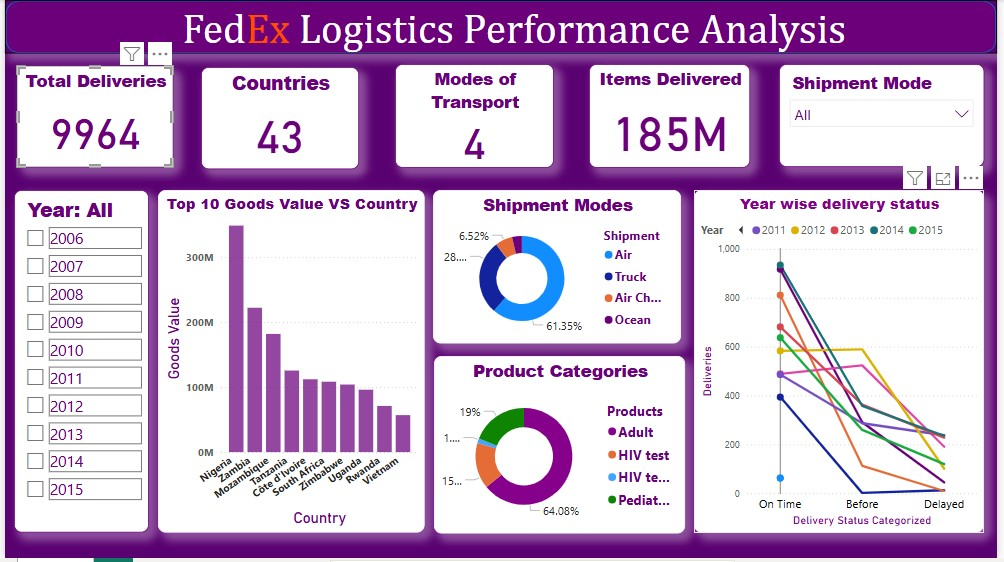

This screenshot's page, from the dashboard's own definition file:
{"tool":"powerbi","page":{"name":"Page 1","canvas":[1280,720],"ordinal":0},"visuals":[{"type":"shape","box":[0,0,1279.8,69.4],"z":0},{"type":"textbox","box":[216.9,0,880.2,76.5],"z":1000},{"type":"card","title":"Total Deliveries","fields":{"Values":["CountNonNull(SCMS_Delivery_History_Dataset.ID)"]},"box":[15.6,84.7,201.6,131],"z":2000},{"type":"card","title":"Countries","fields":{"Values":["Sum(Table (2).TotalCountries)"]},"box":[252.8,86.4,204.1,131.8],"z":3000},{"type":"card","title":"Modes of Transport","fields":{"Values":["Min(SCMS_Delivery_History_Dataset.Mode)"]},"box":[502.7,83,204.9,134.4],"z":4000},{"type":"slicer","fields":{"Values":["SCMS_Delivery_History_Dataset.Shipment Mode"]},"box":[998.3,83,265.4,132.7],"z":5000},{"type":"card","title":"Items Delivered","fields":{"Values":["Sum(SCMS_Delivery_History_Dataset.Line Item Quantity)"]},"box":[753,83,208.3,134.4],"z":6000},{"type":"slicer","fields":{"Values":["SCMS_Delivery_History_Dataset.Year"]},"box":[11.3,245.6,174.3,442.2],"z":7000},{"type":"clusteredColumnChart","title":"Top 10 Goods Value VS Country","fields":{"Category":["SCMS_Delivery_History_Dataset.Country"],"Y":["Sum(SCMS_Delivery_History_Dataset.Line Item Value)"]},"box":[197,245.6,344.4,442.2],"z":8000},{"type":"donutChart","title":"Shipment Modes","fields":{"Category":["SCMS_Delivery_History_Dataset.Shipment Mode"],"Y":["CountNonNull(SCMS_Delivery_History_Dataset.ID)"]},"box":[552.8,245.6,320.3,198.4],"z":9000},{"type":"donutChart","title":"Product Categories","fields":{"Y":["CountNonNull(SCMS_Delivery_History_Dataset.ID)"],"Series":["SCMS_Delivery_History_Dataset.Sub Classification"]},"box":[553.1,458.8,324.2,228.9],"z":10000},{"type":"lineChart","title":"Year wise delivery status","fields":{"Category":["SCMS_Delivery_History_Dataset.Delivery Status Categorized"],"Y":["CountNonNull(SCMS_Delivery_History_Dataset.ID)"],"Series":["SCMS_Delivery_History_Dataset.Year"]},"box":[888.7,245.2,374.2,442.2],"z":11000}]}

Visuals, with their boxes in screenshot pixels (x1, y1, x2, y2), scaled from the page's 1280x720 canvas onto the 1004x562 screenshot:
shape: 0/0/1003/54
textbox: 170/0/861/60
"Total Deliveries" card: 12/66/170/168
"Countries" card: 198/67/358/170
"Modes of Transport" card: 394/65/555/170
slicer - SCMS_Delivery_History_Dataset.Shipment Mode: 783/65/991/168
"Items Delivered" card: 591/65/754/170
slicer - SCMS_Delivery_History_Dataset.Year: 9/192/146/537
"Top 10 Goods Value VS Country" clusteredColumnChart: 155/192/425/537
"Shipment Modes" donutChart: 434/192/685/347
"Product Categories" donutChart: 434/358/688/537
"Year wise delivery status" lineChart: 697/191/991/537
